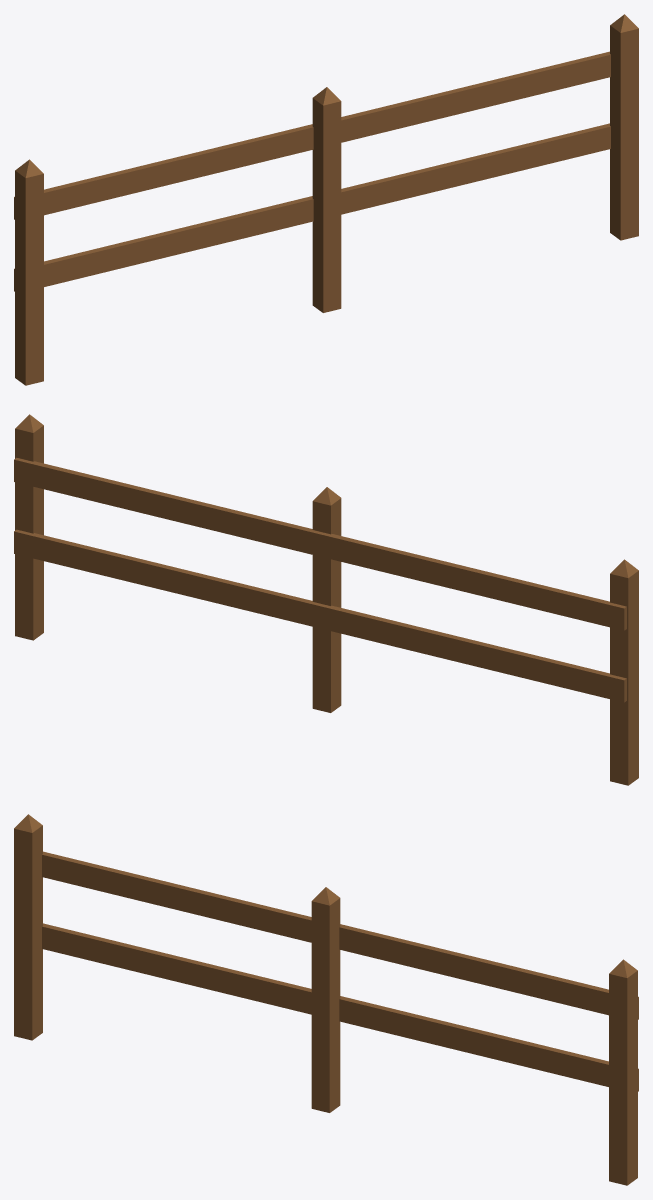
The model's file is SM_Fence_Wood.fbx.
3 views of the same model, one above another, from view 1: azimuth 30°, elevation 25°; view 2: azimuth 150°, elevation 25°; view 3: azimuth 330°, elevation 25° (orthographic).
Parts seen in each view (by area): view 1: SM_Fence_Wood; view 2: SM_Fence_Wood; view 3: SM_Fence_Wood.
Boxes of the visible parts, x1=… form: SM_Fence_Wood: x1=14, y1=14, x2=638, y2=385; SM_Fence_Wood: x1=14, y1=414, x2=638, y2=785; SM_Fence_Wood: x1=14, y1=814, x2=638, y2=1185.
Size of what is drawn, in the model's own units: 4.02 by 1.38 by 0.15.
